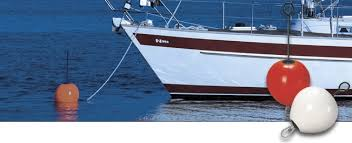buoy: (267, 59, 310, 111), (54, 83, 81, 102)
